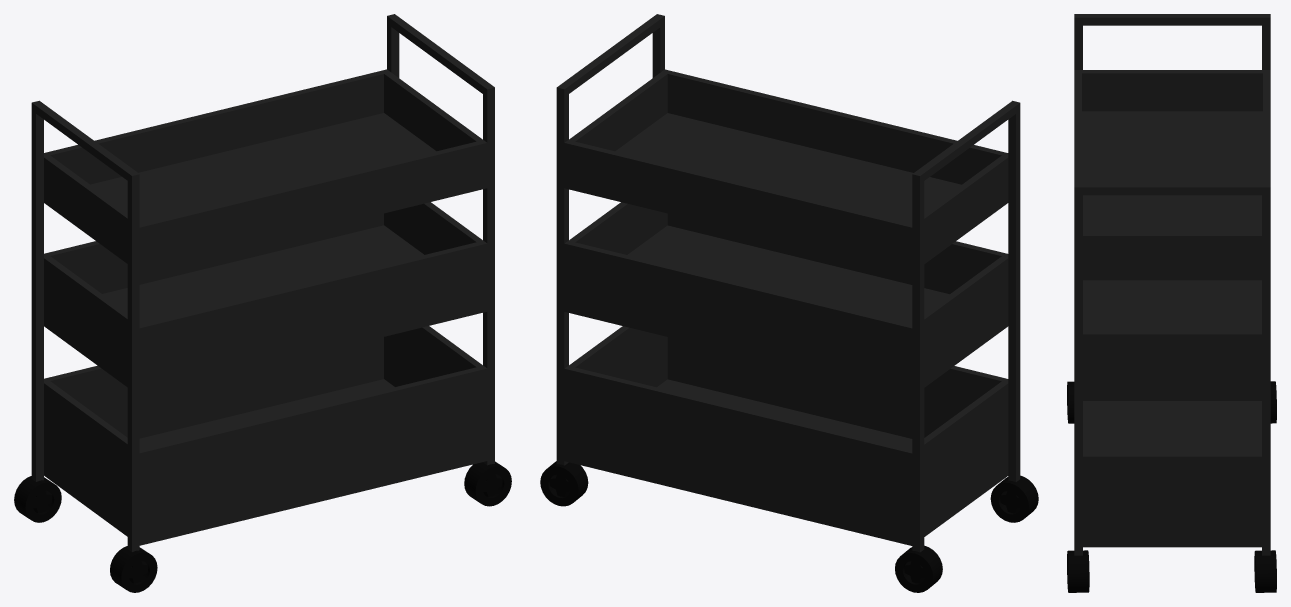
File: Trolley_03.glb
The picture shows the model from 3 angles, left to right: view 1: azimuth 30°, elevation 25°; view 2: azimuth 150°, elevation 25°; view 3: azimuth 270°, elevation 25°; orthographic projection. The views are drawn at different scales.
Visible parts, largest first — view 1: Mesh_Trolley_03; view 2: Mesh_Trolley_03; view 3: Mesh_Trolley_03.
Part boxes in pixels (x1,y1,x2,y2): Mesh_Trolley_03: (14,14,511,592); Mesh_Trolley_03: (540,14,1038,592); Mesh_Trolley_03: (1067,14,1276,592).
Size of the model in its own units: 0.9037 by 0.9129 by 0.428.
Materials: 1 (1 with a texture image).
